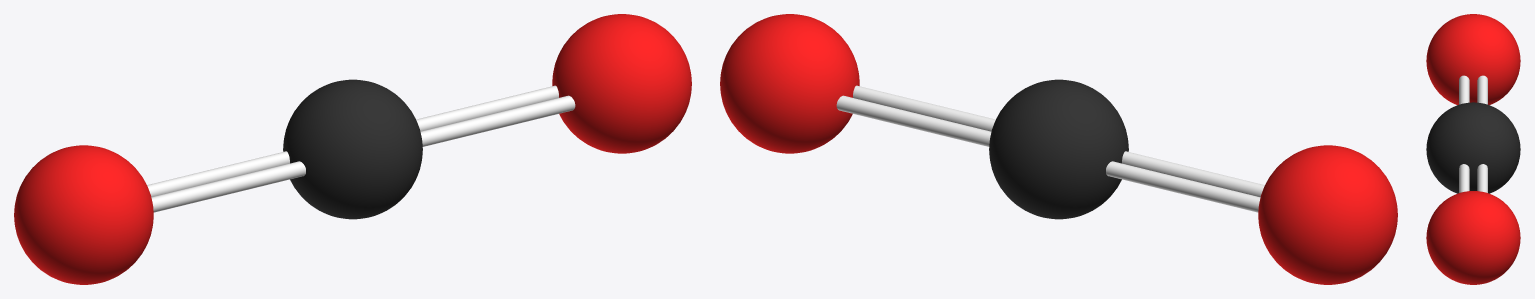
File: carbon_dioxide.fbx
3 renders of one model, left to right at view 1: azimuth 30°, elevation 25°; view 2: azimuth 150°, elevation 25°; view 3: azimuth 270°, elevation 25°, orthographic. The views are drawn at different scales.
Visible parts, largest first — view 1: carbon_dioxide; view 2: carbon_dioxide; view 3: carbon_dioxide.
Part boxes in pixels (box(x1,y1,x2,y2)): carbon_dioxide: box(14, 14, 691, 284); carbon_dioxide: box(720, 14, 1397, 284); carbon_dioxide: box(1426, 14, 1520, 284).
Bounding box in the file's own units: 196 × 36 × 36.
